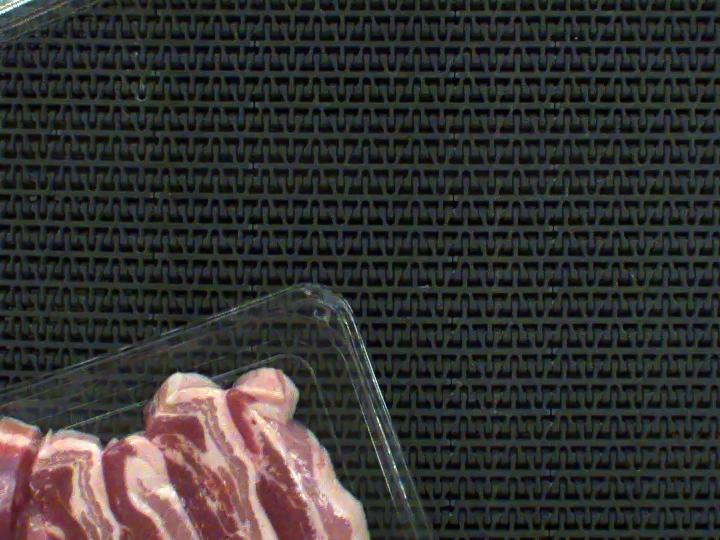twisted-meat: (0, 423, 36, 540)
